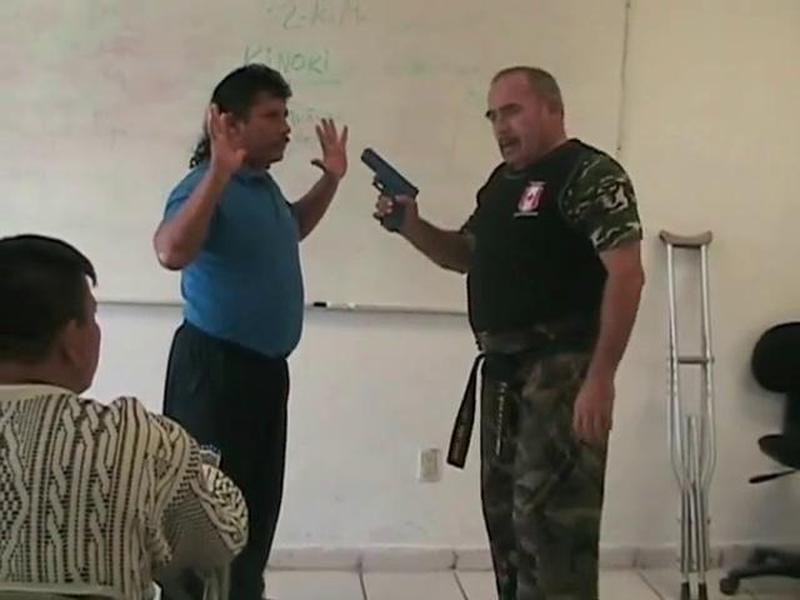Pistola: (358, 144, 420, 232)
